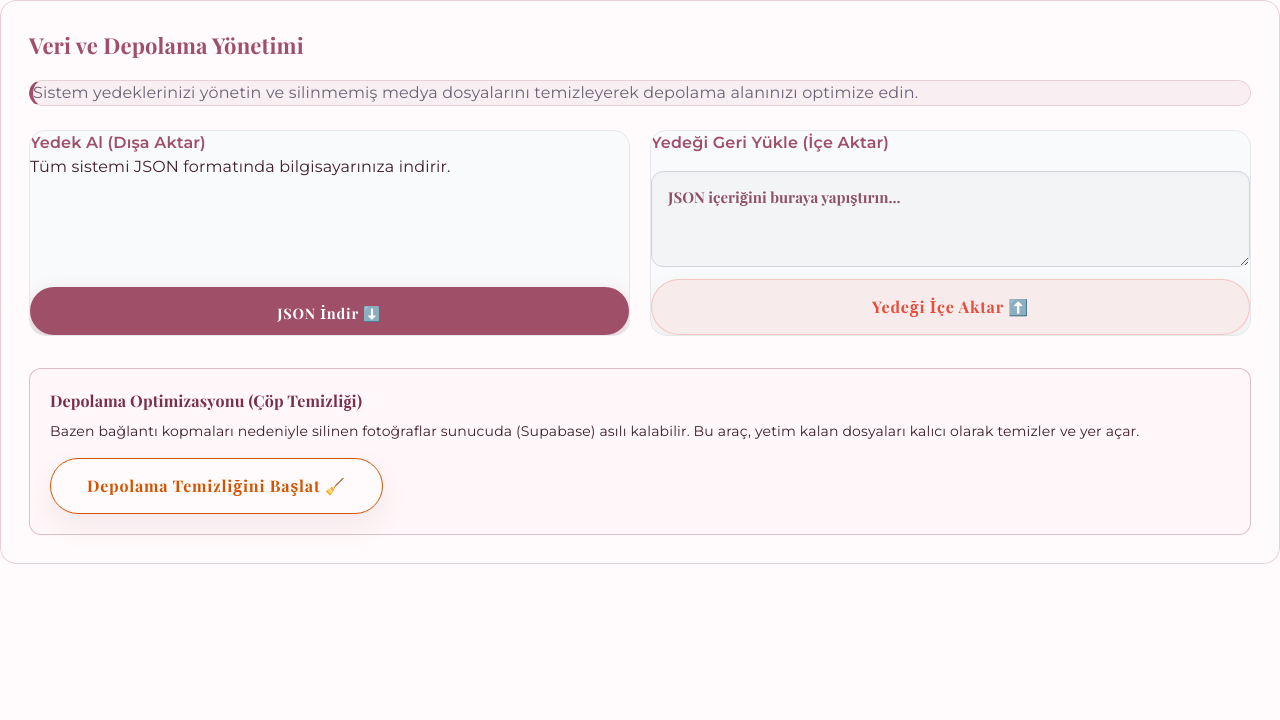
it: DataTab Admin Bileşen Kapsamlı Testleri › Depolama Temizliği (Garbage Collection) hataya düşerse hata mesajı vermeli
This screenshot has width=1280, height=720.
Click the button "Depolama Temizliğini Başlat 🧹" at (216, 486), box 50,458 -> 382,514
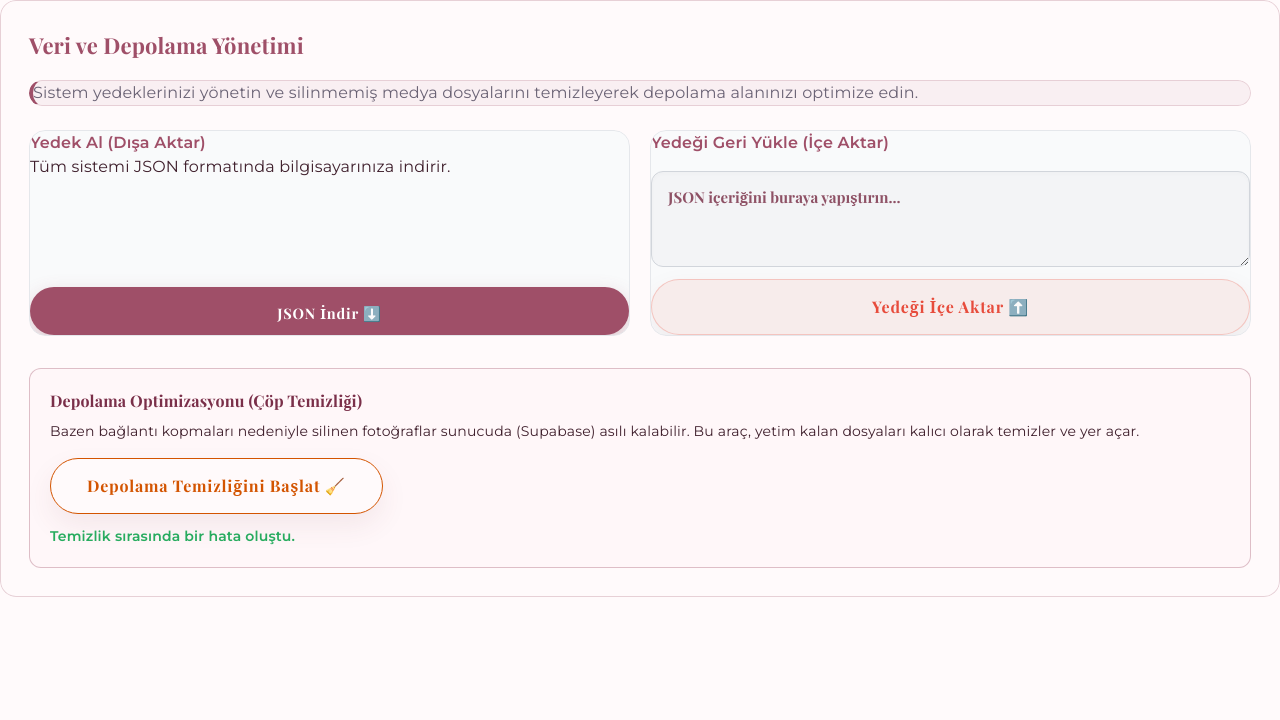
Now the text "Temizlik sırasında bir hata oluştu." is shown, box 50,527 -> 295,545
